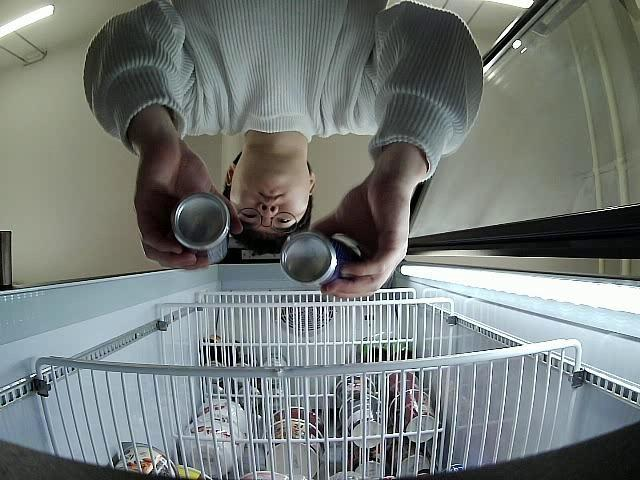16_hot6: (279, 231, 360, 288), (172, 192, 232, 266)
